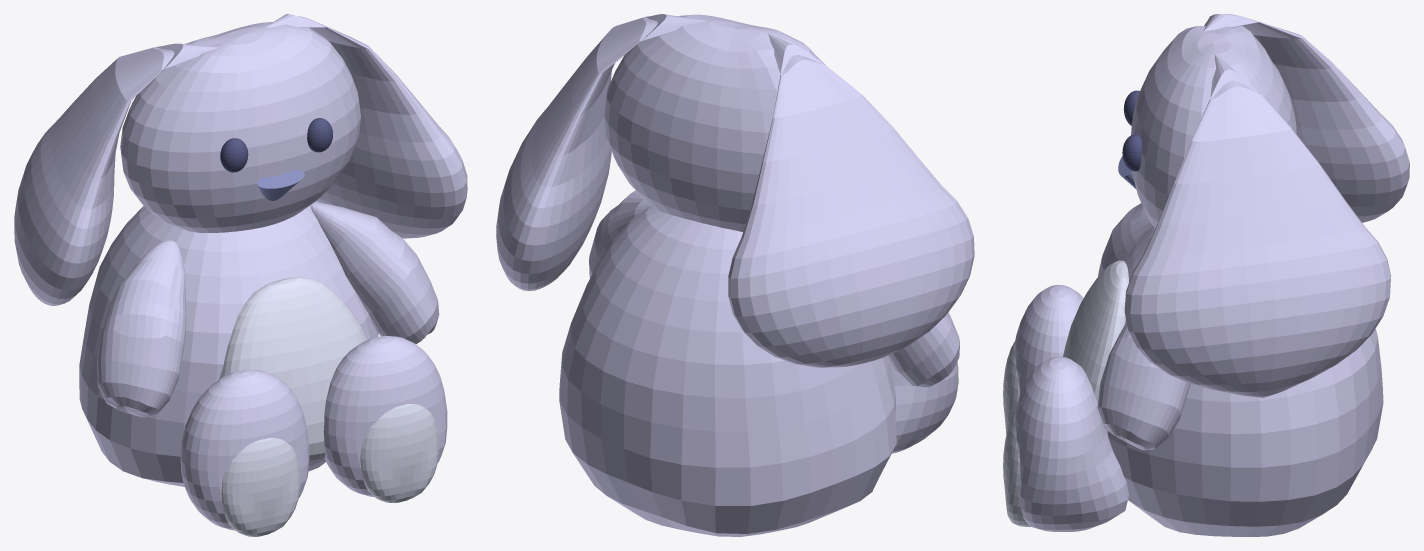
The model's file is stuffed-animal.glb.
3 renders of one model, left to right at view 1: azimuth 30°, elevation 25°; view 2: azimuth 150°, elevation 25°; view 3: azimuth 270°, elevation 25°, orthographic. The views are drawn at different scales.
Visible parts, largest first — view 1: skull, body, ear1, ear2, body.003, body.001, foot1, foot2, body.002, foot2.002, foot2.001, Cylinder (+2 smaller); view 2: body, ear1, skull, ear2, foot1, body.001, body.002; view 3: ear2, body, foot2, ear1, skull, body.002, body.003, foot1, body.001, foot2.001, foot2.002, Sphere.001.
Boxes of the visible parts, box(x1,y1,x2,y2) form: skull: box(120, 22, 360, 233); body: box(79, 200, 378, 486); ear1: box(14, 43, 219, 305); ear2: box(265, 14, 467, 238); body.003: box(219, 277, 366, 460); body.001: box(97, 240, 186, 417); foot1: box(180, 369, 309, 530); foot2: box(323, 336, 447, 496); body.002: box(310, 202, 439, 343); foot2.002: box(221, 437, 300, 536); foot2.001: box(360, 404, 438, 502); Cylinder: box(257, 169, 304, 200); body: box(559, 206, 896, 536); ear1: box(728, 33, 974, 367); skull: box(604, 14, 825, 231); ear2: box(496, 14, 706, 291); foot1: box(890, 360, 958, 453); body.001: box(888, 312, 959, 387); body.002: box(589, 190, 650, 277); ear2: box(1124, 54, 1391, 397); body: box(1107, 226, 1383, 536); foot2: box(1014, 356, 1128, 531); ear1: box(1203, 14, 1409, 222); skull: box(1131, 26, 1297, 228); body.002: box(1097, 322, 1190, 450); body.003: box(1063, 260, 1128, 432); foot1: box(1014, 285, 1083, 393); body.001: box(1098, 203, 1152, 276); foot2.001: box(1003, 413, 1030, 526); foot2.002: box(1003, 341, 1019, 434); Sphere.001: box(1122, 134, 1141, 171).
Size of the model in its own units: 3.56 by 3.65 by 2.91.
